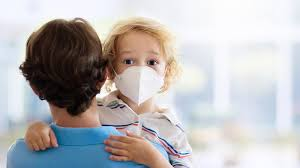with_mask: (109, 33, 171, 105)
